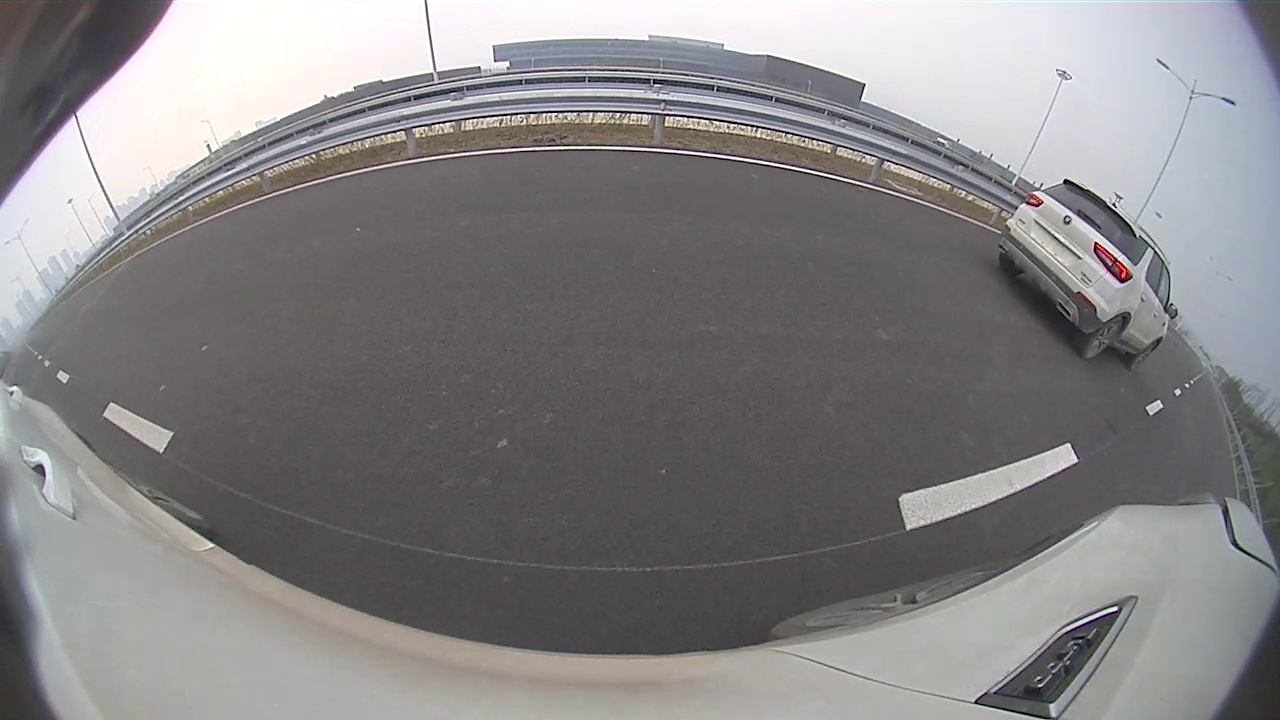car: (996, 178, 1178, 368)
rear: (1083, 316, 1124, 364)
